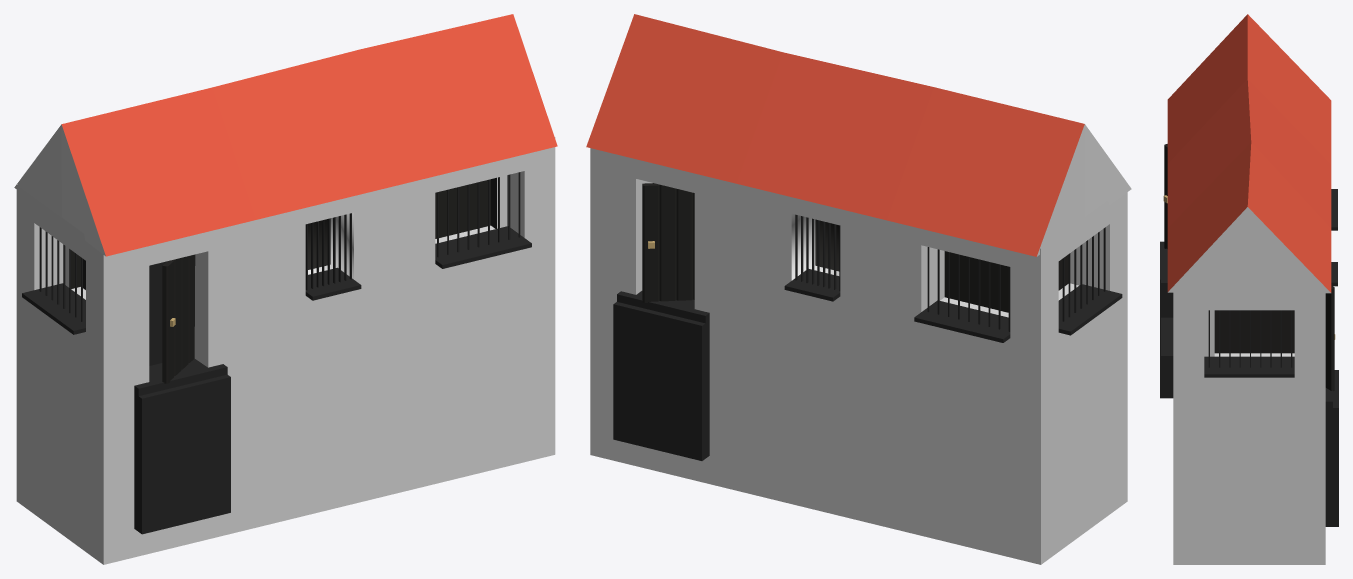
File: casa_procedural_relleno_Con sotano.fbx
3 views of the same model, side by side, from view 1: azimuth 30°, elevation 25°; view 2: azimuth 150°, elevation 25°; view 3: azimuth 270°, elevation 25° (orthographic). The views are drawn at different scales.
Visible parts, largest first — view 1: casa procedural_relleno_Con sotano; view 2: casa procedural_relleno_Con sotano; view 3: casa procedural_relleno_Con sotano.
Part boxes in pixels (bbox=[...]): casa procedural_relleno_Con sotano: bbox=[14, 14, 557, 564]; casa procedural_relleno_Con sotano: bbox=[586, 14, 1131, 564]; casa procedural_relleno_Con sotano: bbox=[1160, 14, 1338, 564].
Size of the model in its own units: 316 by 260 by 118.
